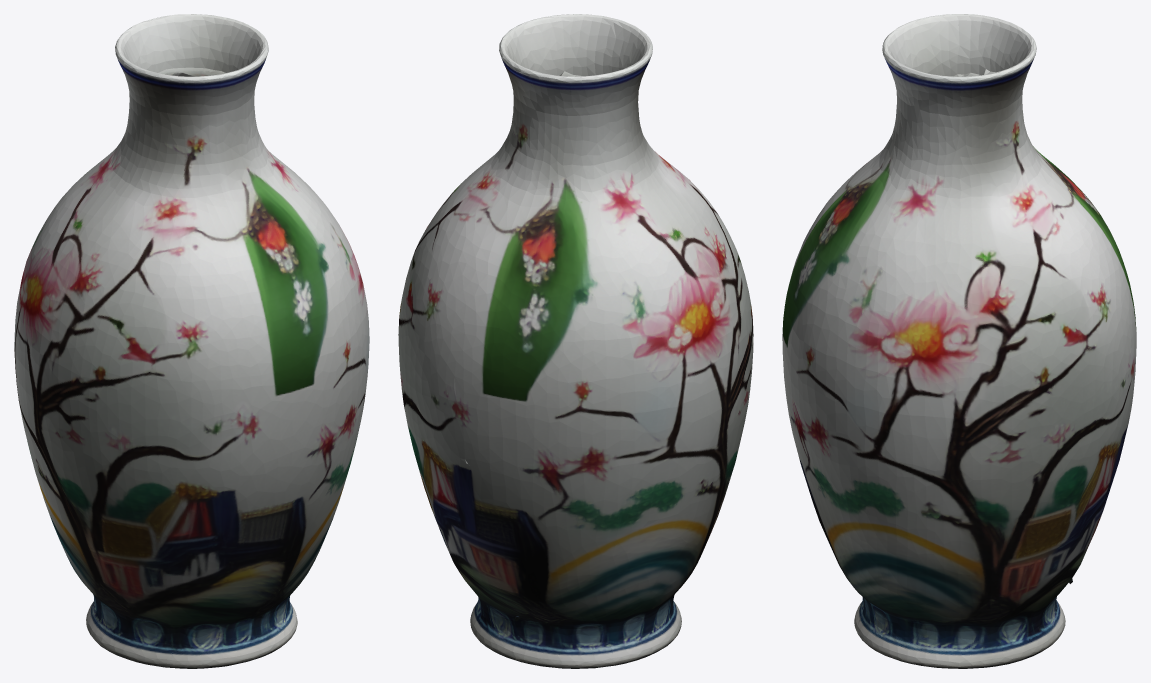
File: porcelain-glass-holder-japanese.jpeg.glb
3 views of the same model, side by side, from view 1: azimuth 30°, elevation 25°; view 2: azimuth 150°, elevation 25°; view 3: azimuth 270°, elevation 25° (orthographic).
Visible parts, largest first — view 1: world; view 2: world; view 3: world.
Boxes of the visible parts, x1=… form: world: x1=14, y1=14, x2=369, y2=668; world: x1=398, y1=14, x2=753, y2=668; world: x1=782, y1=14, x2=1136, y2=668.
Size of the model in its own units: 0.5527 by 1 by 0.5532.
1 material, 1 textured.
